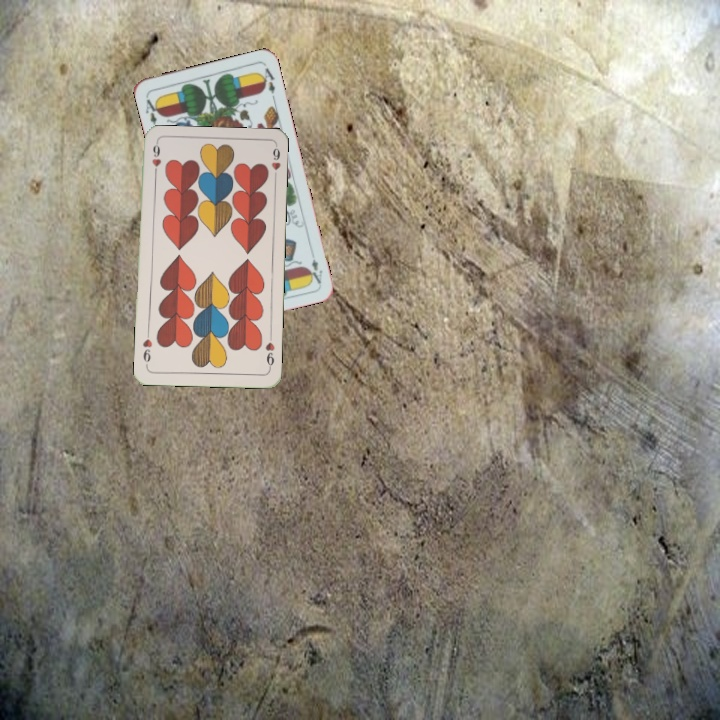EA: (141, 92, 163, 132), (304, 254, 325, 286)
H9: (261, 332, 277, 372), (148, 140, 162, 180)
